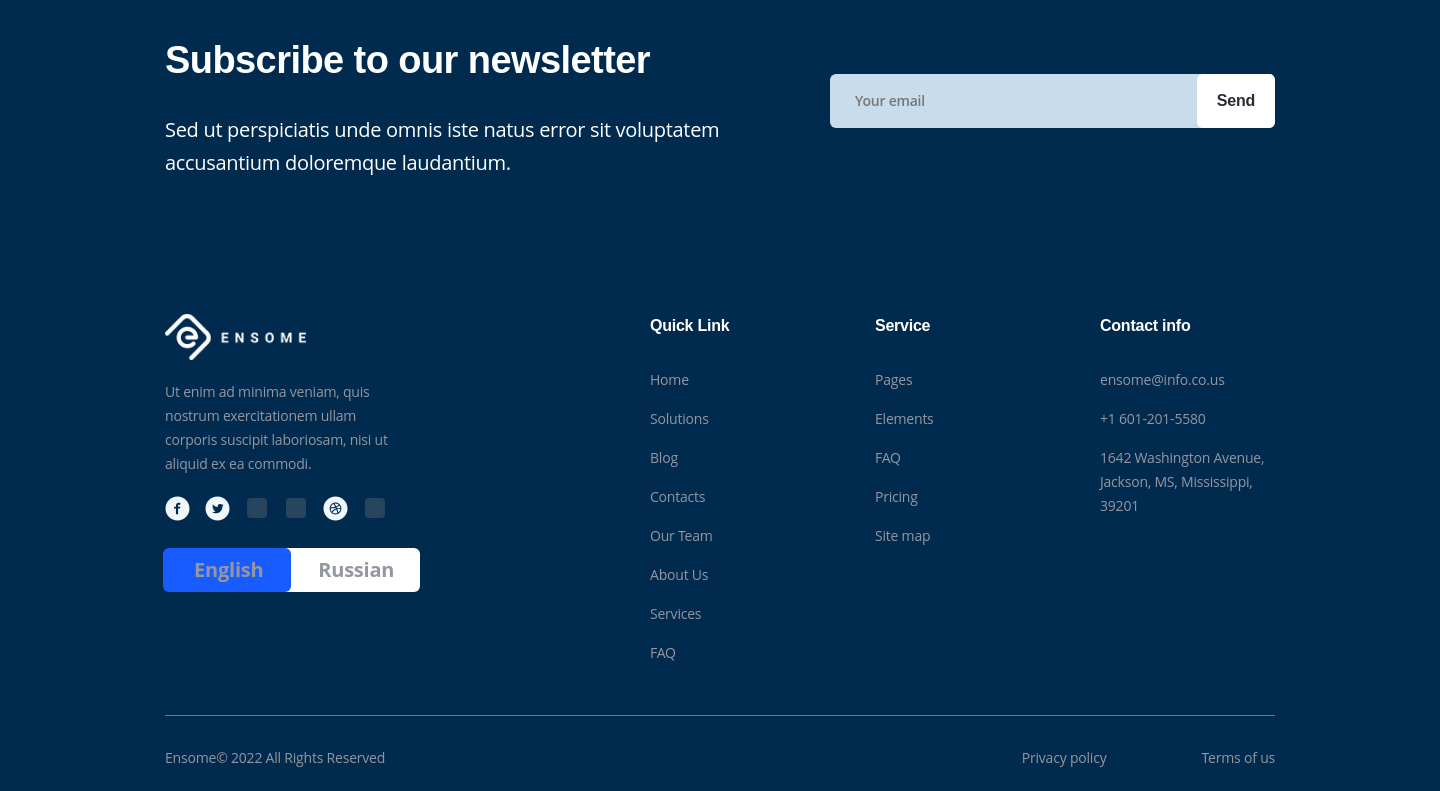
Test: Home page functional › change language functional
(page scrolled)
Click the element with test id "SwitchToRussian" at (356, 570), box 318,556 -> 394,583
(page scrolled)
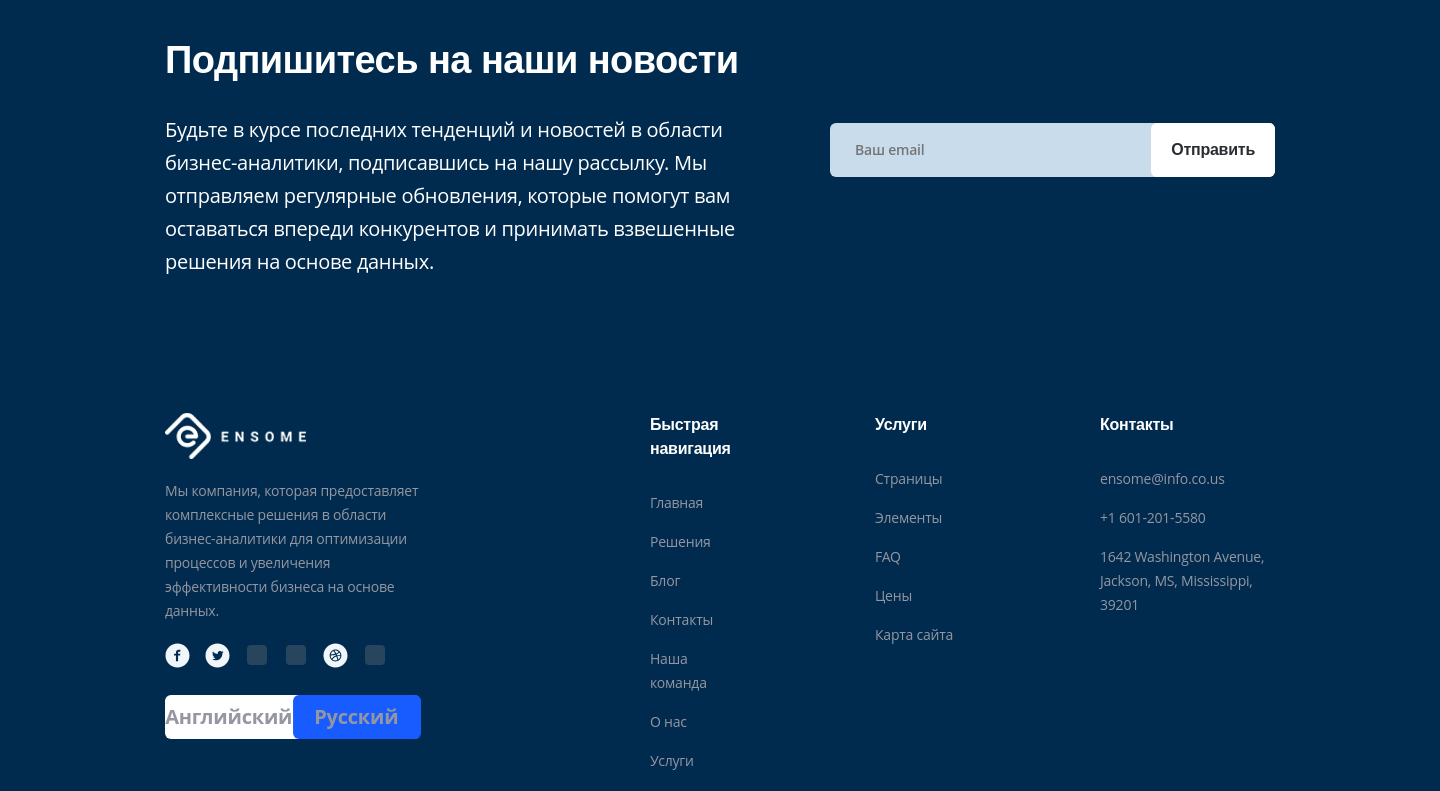
Result: the element with test id "SwitchToRussian" reads "Русский" at 314,703 -> 398,730
Result: the element with test id "SwitchToEnglish" reads "Английский"
Click the element with test id "SwitchToEnglish" at (229, 717), box 165,695 -> 293,739
(page scrolled)
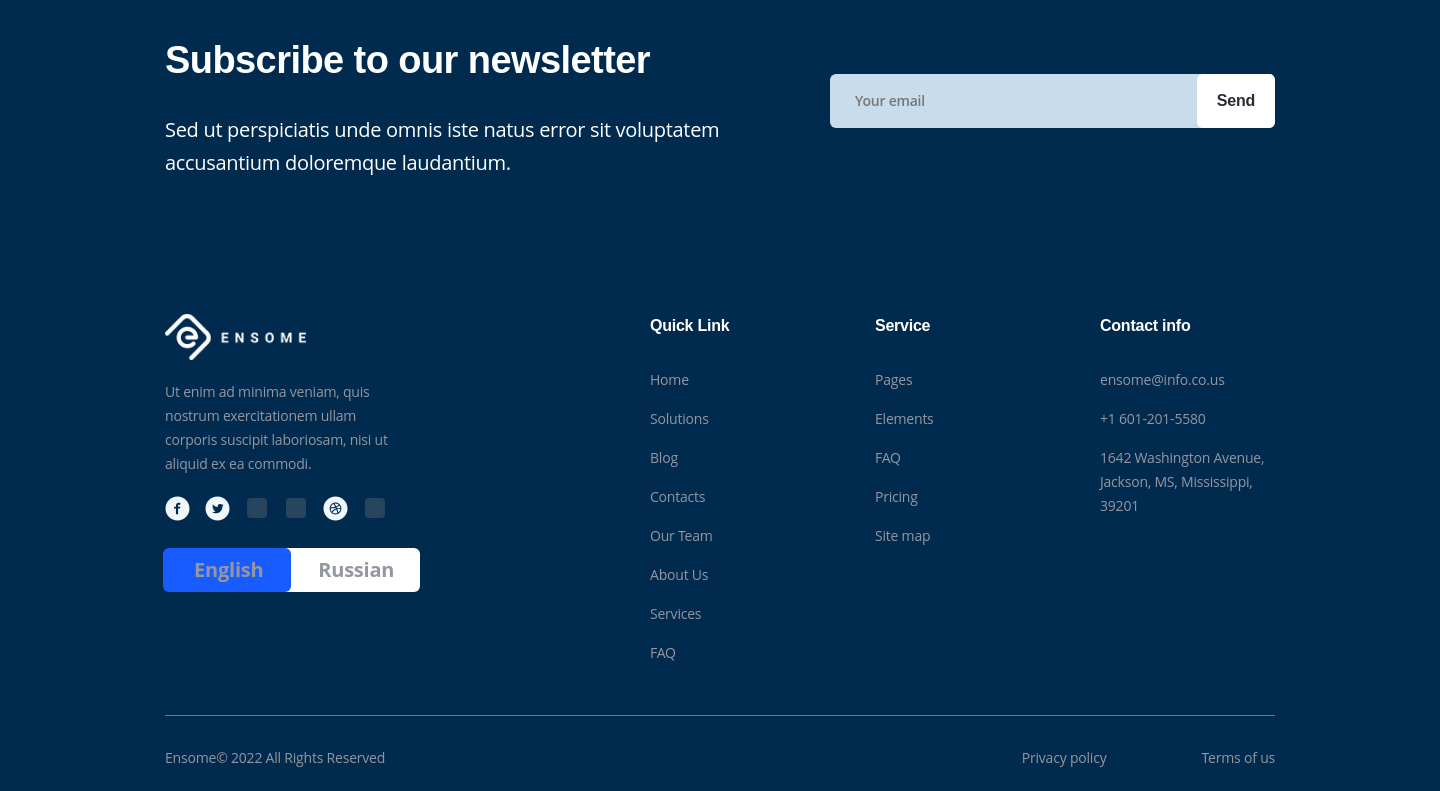
Result: the element with test id "SwitchToEnglish" reads "English" at 194,556 -> 264,583
